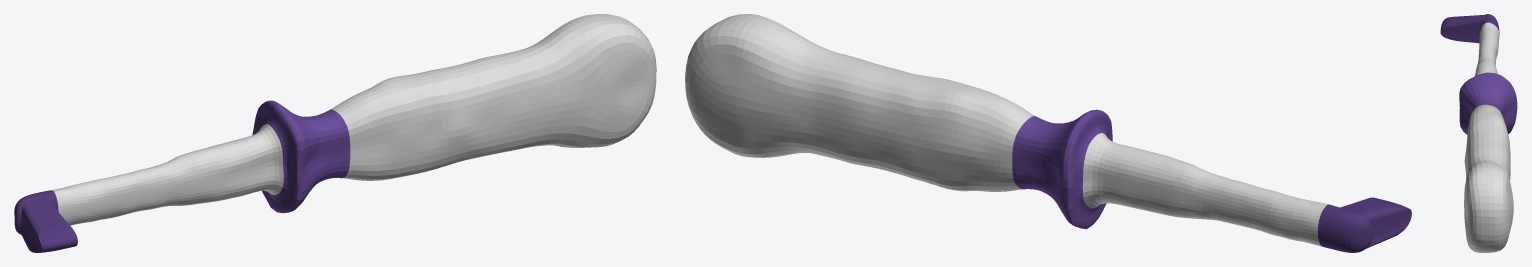
The model's file is Palo de Golf.fbx.
3 renders of one model, left to right at view 1: azimuth 30°, elevation 25°; view 2: azimuth 150°, elevation 25°; view 3: azimuth 270°, elevation 25°, orthographic. The views are drawn at different scales.
Parts seen in each view (by area): view 1: sondapiccolaReco:sondapiccolaReco; view 2: sondapiccolaReco:sondapiccolaReco; view 3: sondapiccolaReco:sondapiccolaReco.
Part boxes in pixels (x1,y1,x2,y2): sondapiccolaReco:sondapiccolaReco: [14, 14, 656, 252]; sondapiccolaReco:sondapiccolaReco: [685, 14, 1411, 252]; sondapiccolaReco:sondapiccolaReco: [1440, 14, 1517, 252].
Bounding box in the file's own units: 17.03 × 3.11 × 2.7.
